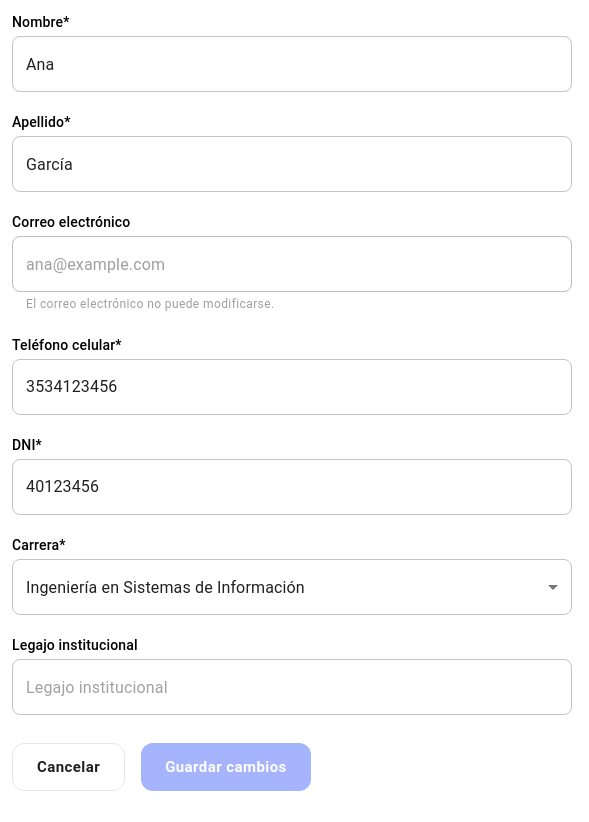
Test case: EditProfileForm › resalta el nombre vacío y deshabilita Guardar hasta completarlo
The image size is (589, 822).
Clear the field with placeholder "Nombre" below "Nombre*" at (292, 64), box [12, 36, 572, 92]
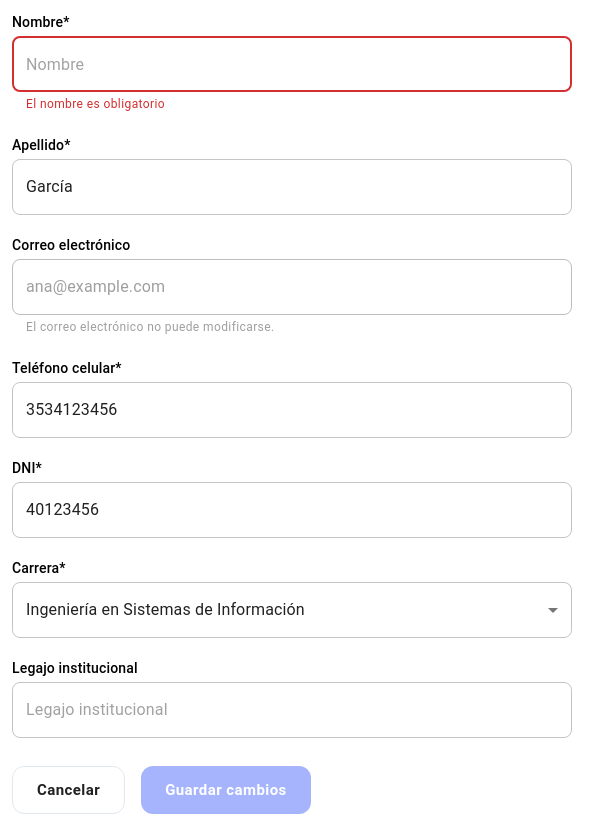
Expected: the button "Guardar cambios" is disabled, [141, 766, 311, 814]
Now the text "El nombre es obligatorio" is shown, box [26, 97, 165, 111]
Type "Anabella" into the field with placeholder "Nombre" at (292, 64), box [12, 36, 572, 92]
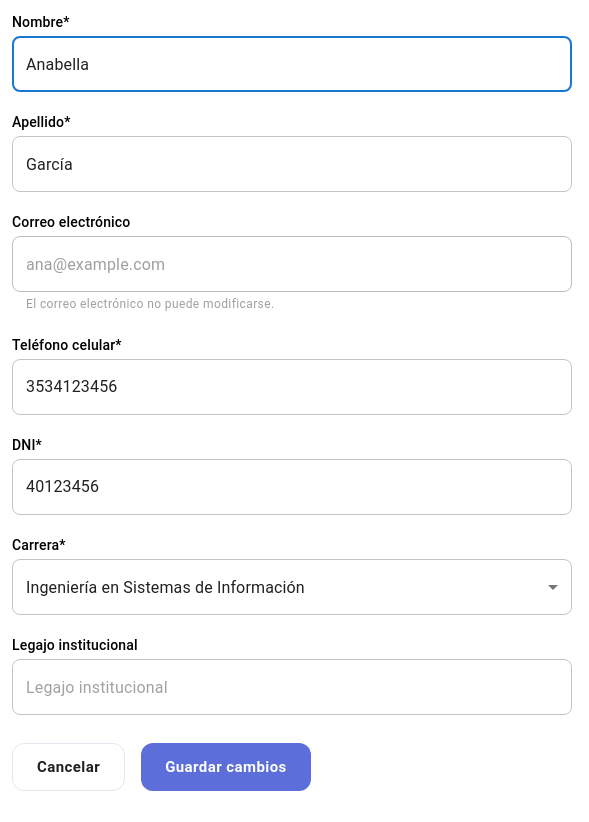
Now the text "El nombre es obligatorio" is gone
Now the button "Guardar cambios" is enabled, box [141, 743, 311, 791]
